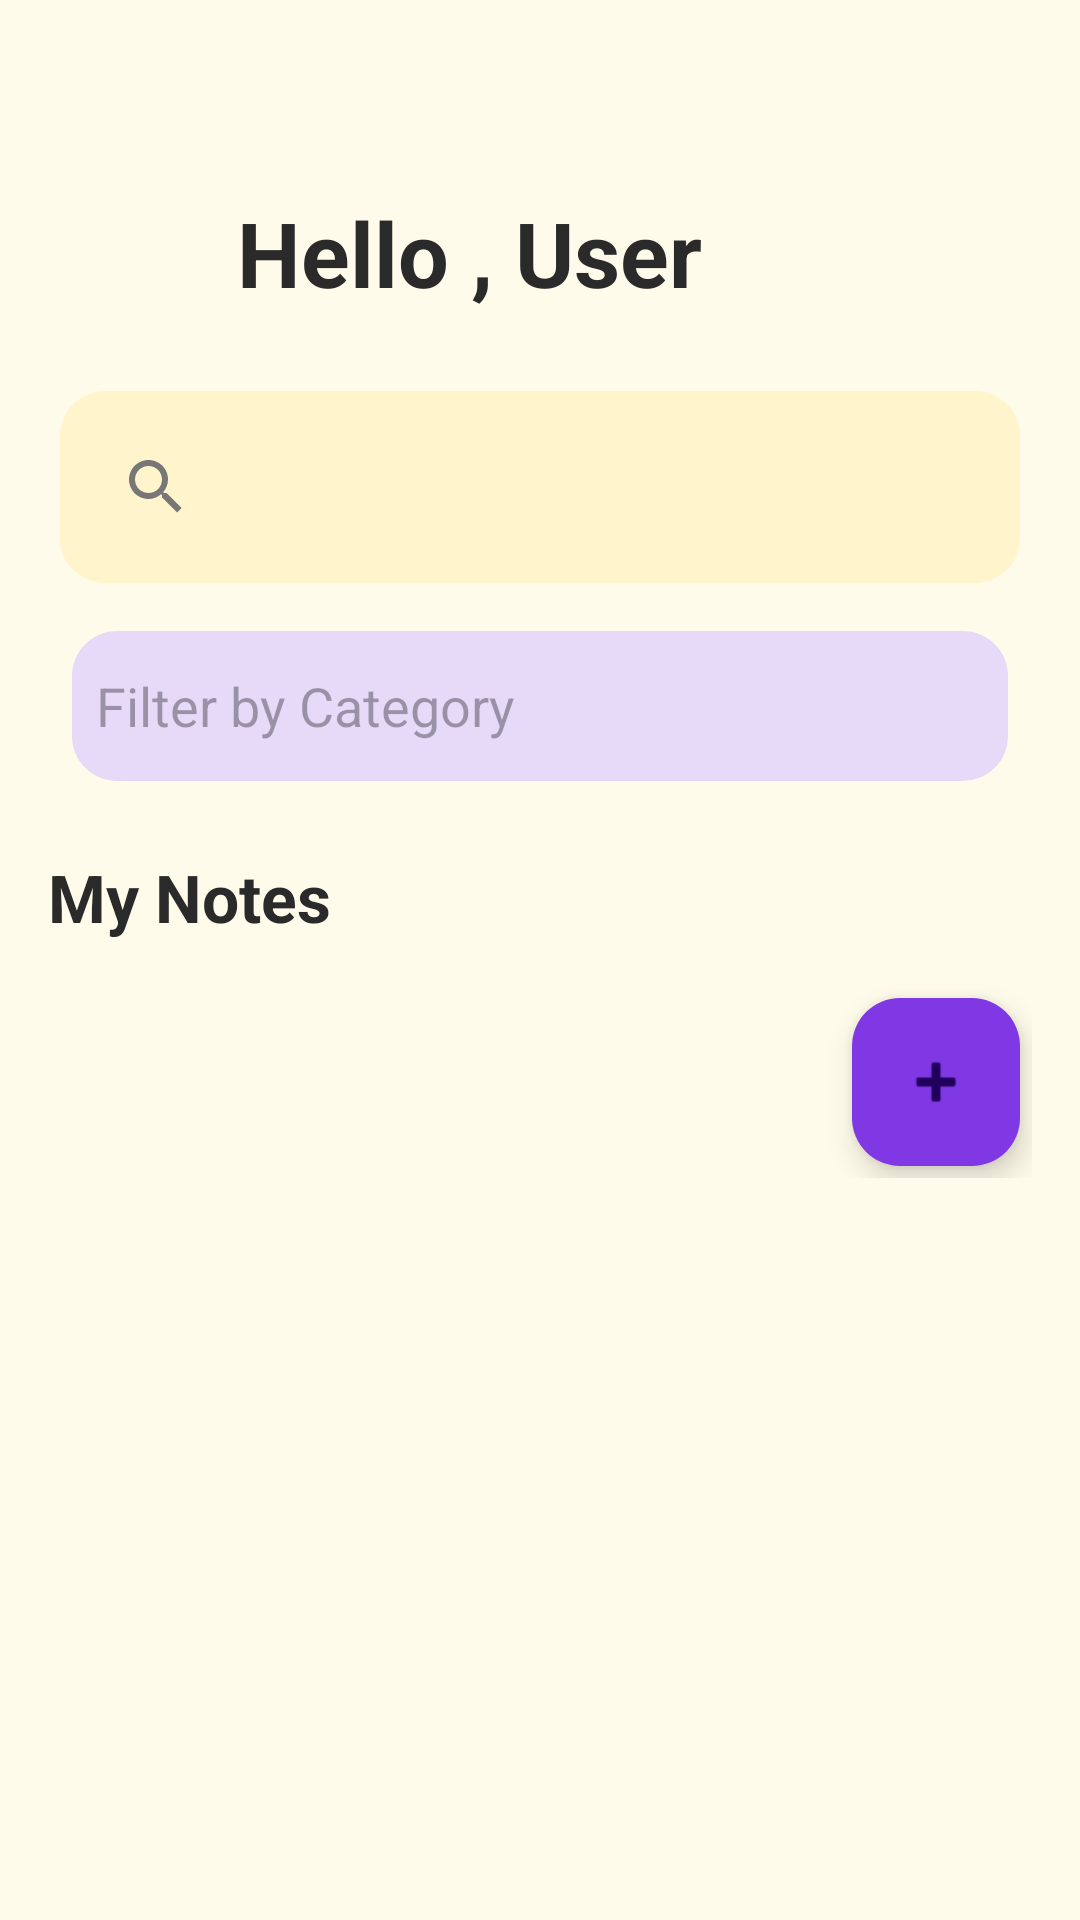

Named icons in this screenshot (1080 × 1920) and their centers, [x,y]:
Add Expense: [936,1082]
